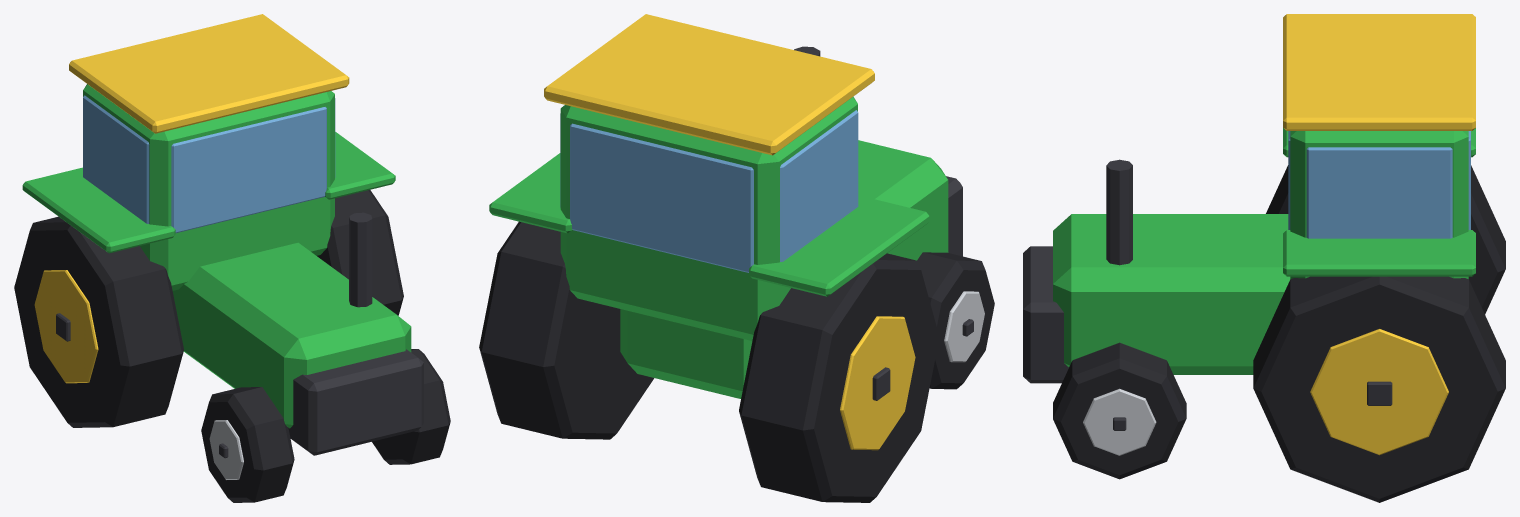
The model's file is Tractor.fbx.
3 renders of one model, left to right at view 1: azimuth 30°, elevation 25°; view 2: azimuth 150°, elevation 25°; view 3: azimuth 270°, elevation 25°, orthographic. The views are drawn at different scales.
Visible parts, largest first — view 1: Tractor, Tractor_WheelBR, Tractor_WheelFR, Tractor_WheelBL, Tractor_WheelFL; view 2: Tractor, Tractor_WheelBR, Tractor_WheelBL, Tractor_WheelFR; view 3: Tractor, Tractor_WheelBL, Tractor_WheelFL, Tractor_WheelBR.
Boxes of the visible parts, left/top/right/bottom form: Tractor: left=22, top=14, right=423, bottom=455; Tractor_WheelBR: left=14, top=216, right=183, bottom=427; Tractor_WheelFR: left=201, top=387, right=294, bottom=502; Tractor_WheelBL: left=317, top=190, right=403, bottom=315; Tractor_WheelFL: left=372, top=349, right=450, bottom=464; Tractor: left=489, top=14, right=962, bottom=398; Tractor_WheelBR: left=739, top=253, right=939, bottom=502; Tractor_WheelBL: left=479, top=221, right=654, bottom=439; Tractor_WheelFR: left=917, top=252, right=994, bottom=389; Tractor: left=1023, top=14, right=1475, bottom=383; Tractor_WheelBL: left=1253, top=276, right=1505, bottom=502; Tractor_WheelFL: left=1053, top=342, right=1186, bottom=479; Tractor_WheelBR: left=1266, top=165, right=1505, bottom=314.
Size of the model in its own units: 5.12 by 5.4 by 6.5.
1 material, 1 textured.
